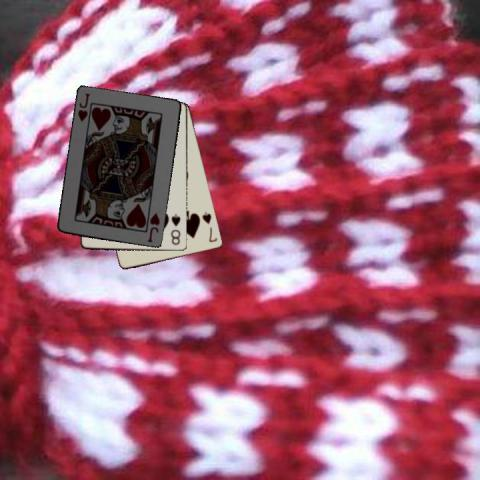7s: (199, 210, 219, 244)
8s: (169, 211, 182, 247)
Jh: (145, 210, 161, 244), (75, 91, 91, 123)
